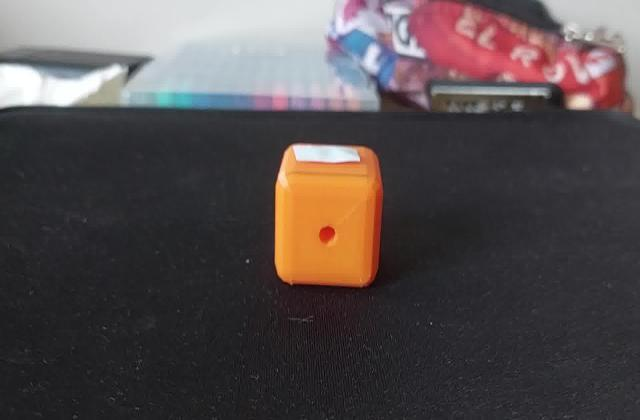cube: (271, 142, 387, 294)
white: (287, 146, 362, 167)
